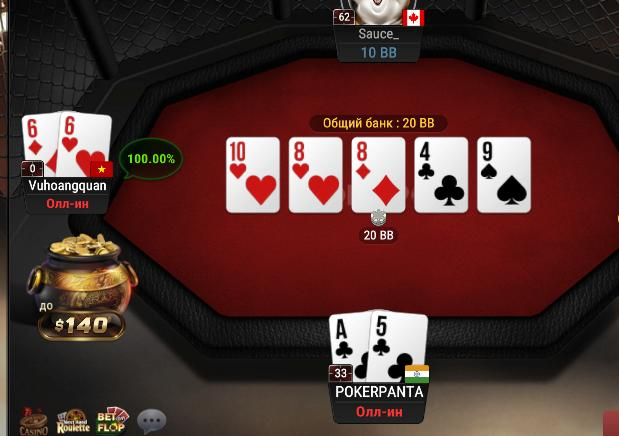10h: (225, 136, 279, 212)
4c: (415, 138, 468, 212)
5c: (370, 309, 428, 385)
6d: (21, 114, 59, 178)
6h: (57, 111, 112, 178)
8d: (352, 138, 404, 212)
8h: (288, 136, 341, 211)
9s: (478, 138, 530, 214)
Ac: (329, 312, 370, 384)
